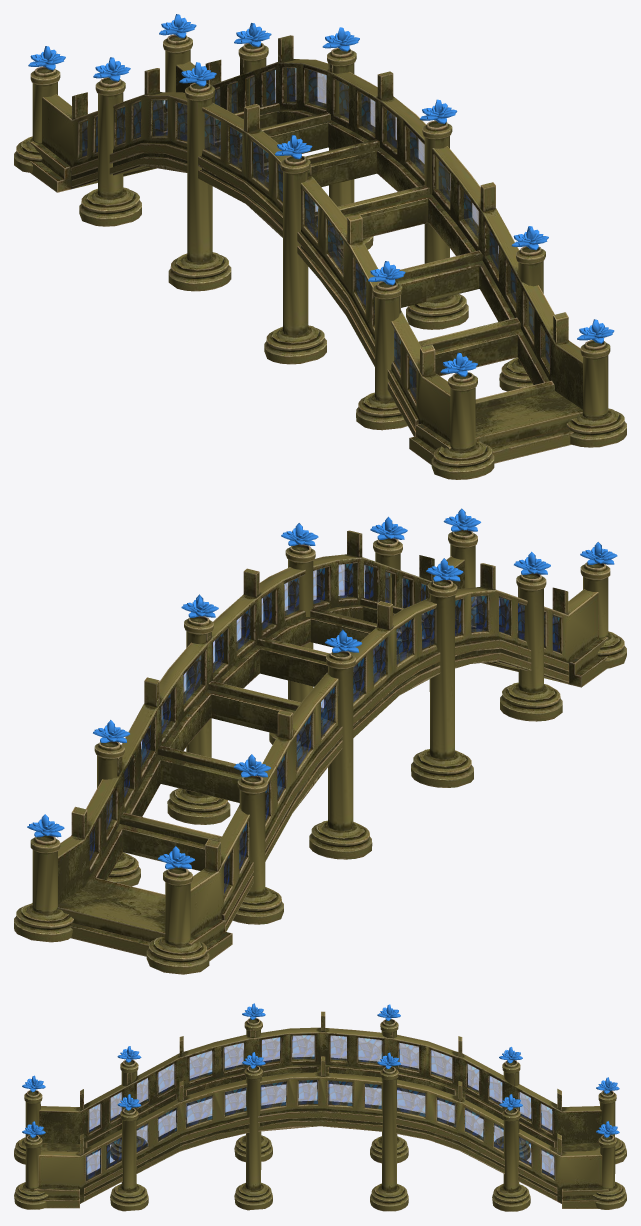
File: bridgeWholeNoGlass_lowPolyCompressed.glb
The picture shows the model from 3 angles, top to bottom: view 1: azimuth 30°, elevation 25°; view 2: azimuth 150°, elevation 25°; view 3: azimuth 270°, elevation 25°; orthographic projection. The views are drawn at different scales.
Visible parts, largest first — view 1: Mesh_168.018; view 2: Mesh_168.018; view 3: Mesh_168.018.
Part boxes in pixels (bbox=[...]): Mesh_168.018: bbox=[14, 14, 626, 479]; Mesh_168.018: bbox=[14, 508, 626, 974]; Mesh_168.018: bbox=[14, 1003, 626, 1211].
Bounding box in the file's own units: 1.35 × 1.39 × 5.14.
5 materials, 4 textured.
